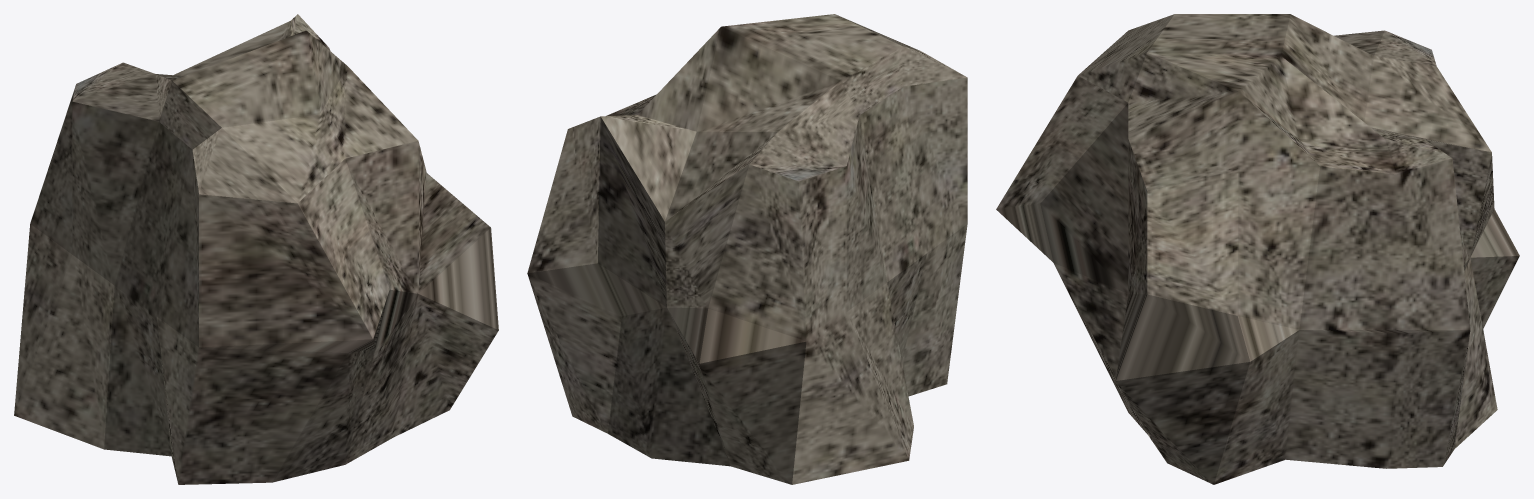
File: rock1.glb
The picture shows the model from 3 angles, left to right: view 1: azimuth 30°, elevation 25°; view 2: azimuth 150°, elevation 25°; view 3: azimuth 270°, elevation 25°; orthographic projection. The views are drawn at different scales.
Parts seen in each view (by area): view 1: Cube; view 2: Cube; view 3: Cube.
Boxes of the visible parts, x1,y1,x2,y2 form: Cube: (14,14,498,484); Cube: (527,14,967,484); Cube: (996,14,1519,484).
Size of the model in its own units: 2.65 by 2.45 by 3.06.
Materials: 1 (1 with a texture image).
